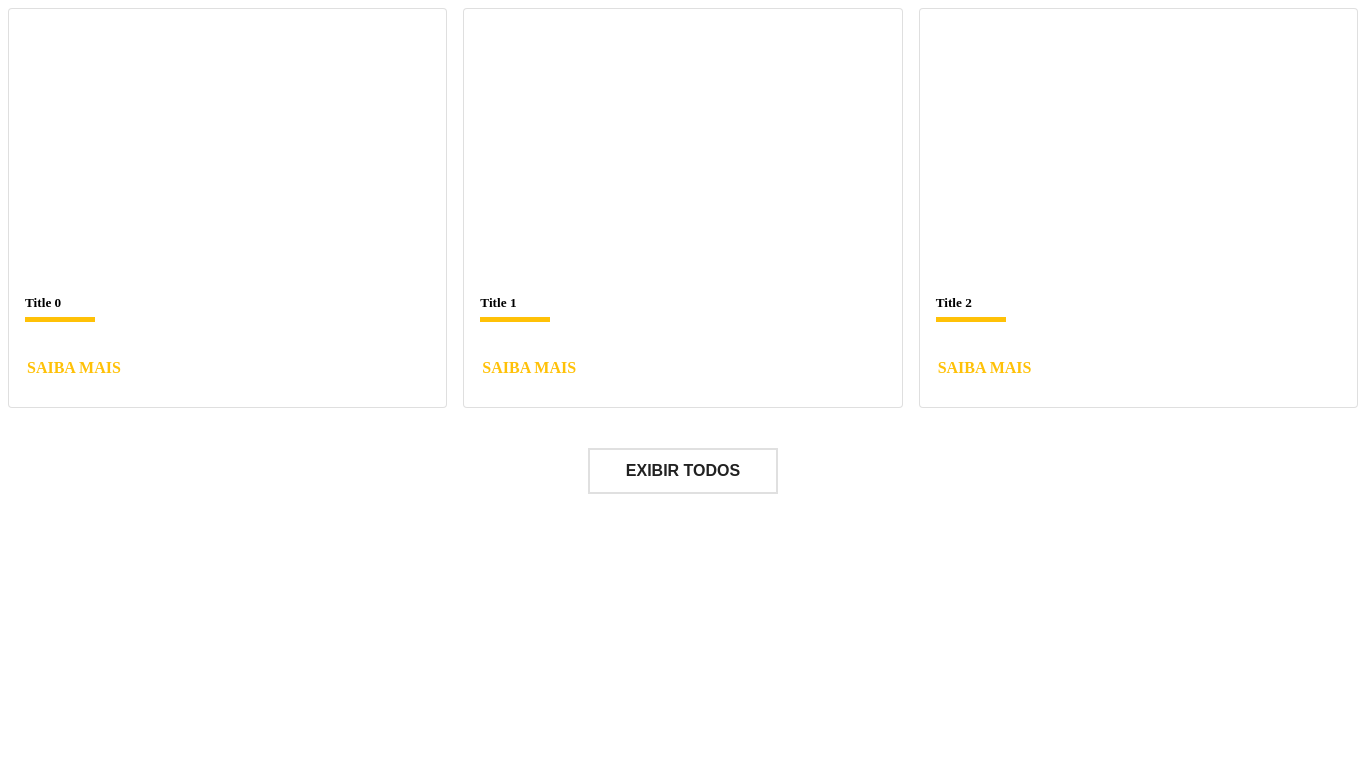
Test case: with 4 products › show all the products when button is clicked
Step 1. Click the button "Exibir todos" → coordinates (683, 471), box [588,448,778,494]
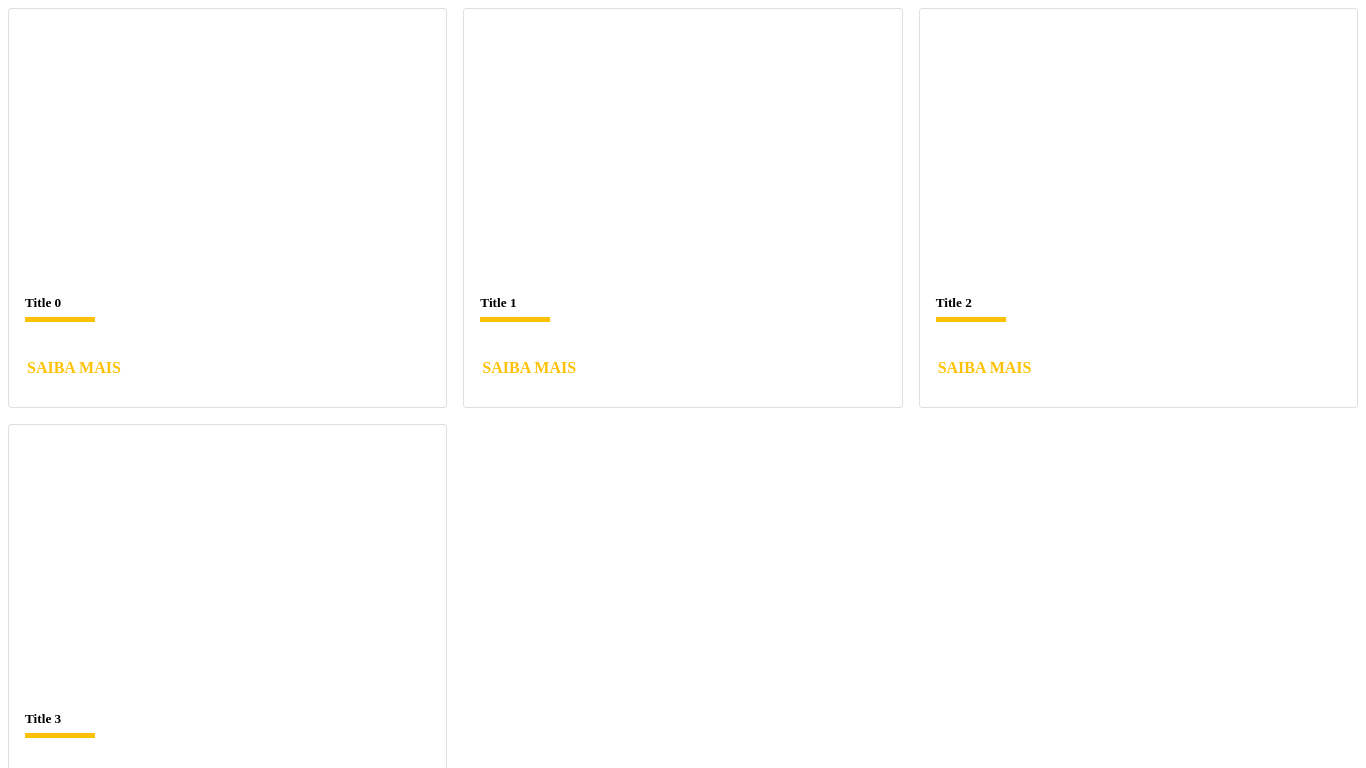
Expected: the number of headings is 4, [25,295,430,320]; [480,295,886,320]; [936,295,1341,320]; [25,711,430,736]
